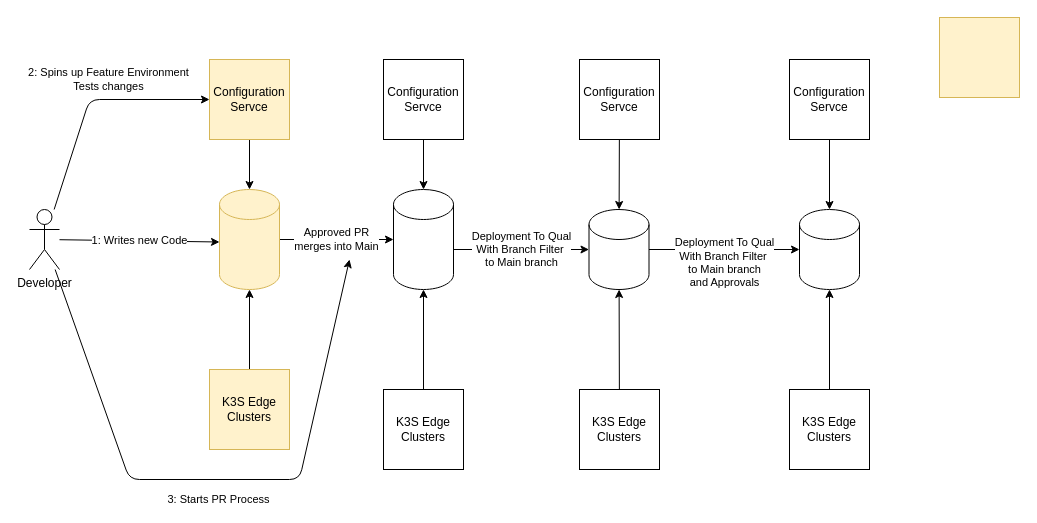
This 1037x523 diagram has some shape labels left out. Each missing label, with the centre of its shape:
"Dev" goes at point 423,239.
"Dev Feature Branch" goes at point 249,239.
"Prod" goes at point 829,249.
"Qual" goes at point 618,249.
"Temporary branches, environments, ..." goes at point 979,57.
